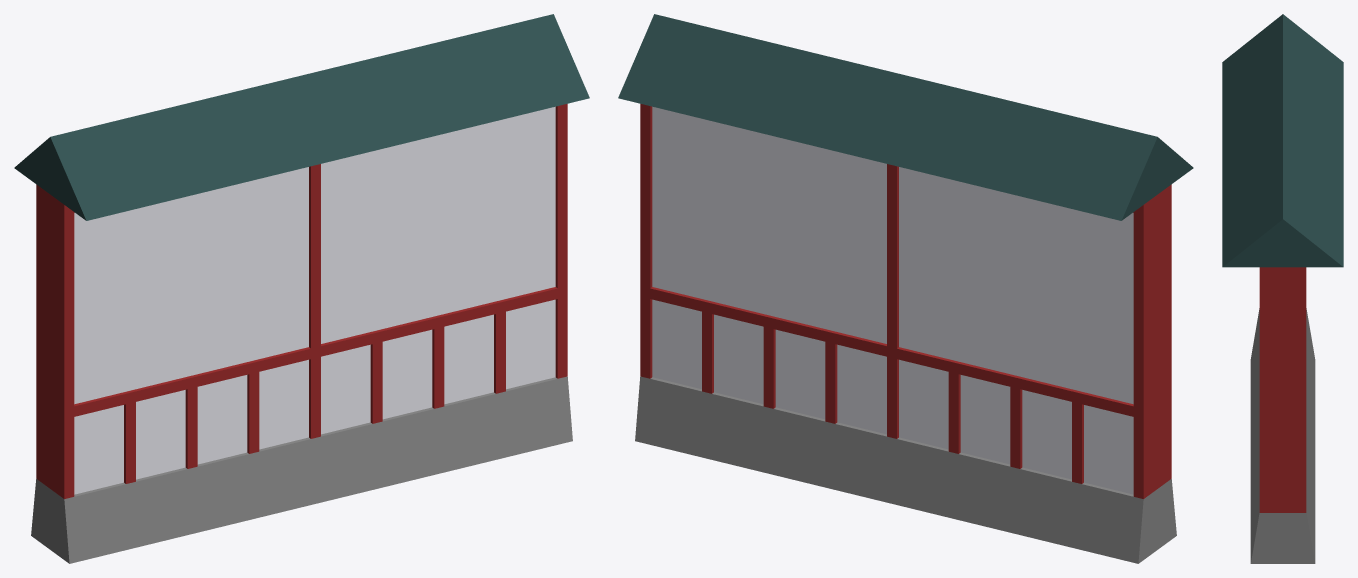
The model's file is Asian_Prop_Building_Fence_Wall_Framed_01.FBX.
3 renders of one model, left to right at view 1: azimuth 30°, elevation 25°; view 2: azimuth 150°, elevation 25°; view 3: azimuth 270°, elevation 25°, orthographic. The views are drawn at different scales.
Parts seen in each view (by area): view 1: Asian_Prop_Building_Fence_Wall_Framed_01; view 2: Asian_Prop_Building_Fence_Wall_Framed_01; view 3: Asian_Prop_Building_Fence_Wall_Framed_01.
Boxes of the visible parts, x1,y1,x2,y2 form: Asian_Prop_Building_Fence_Wall_Framed_01: [14, 14, 589, 563]; Asian_Prop_Building_Fence_Wall_Framed_01: [618, 14, 1193, 563]; Asian_Prop_Building_Fence_Wall_Framed_01: [1222, 14, 1343, 563].
Bounding box in the file's own units: 5167 × 4051 × 1290.
